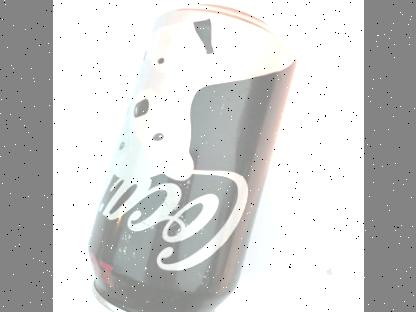Can: (86, 5, 296, 312)
